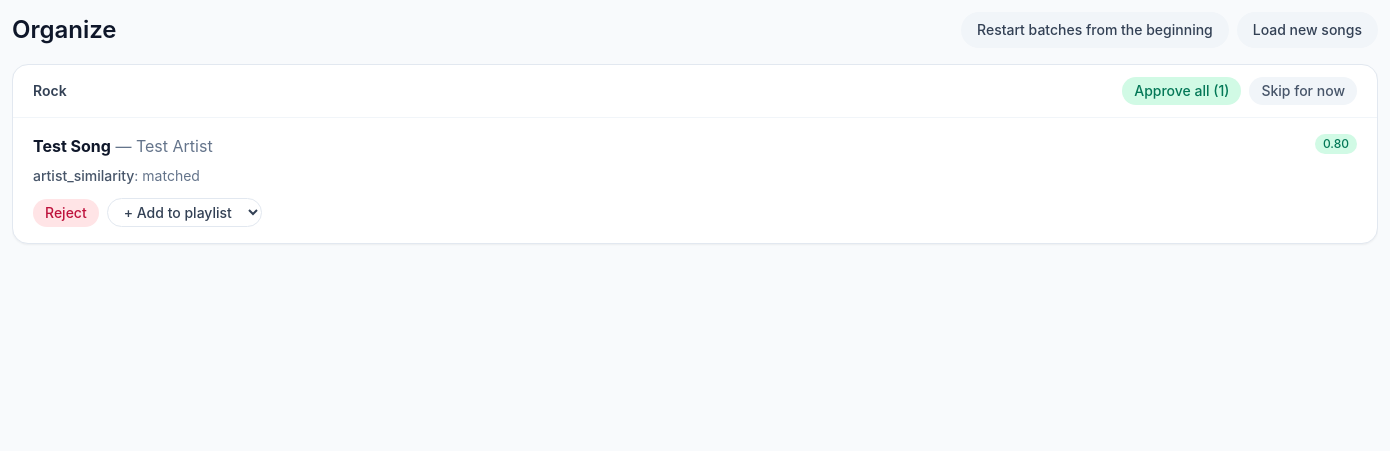
it: ReviewQueue › adds an independent pending candidate for an already-assigned song without touching the original
Expected: the list item with test id "queue-item-1" is shown, x1=13 y1=118 x2=1377 y2=243
Select "Chill" in the dropdown named "Add \"Test Song\" to a playlist" at (184, 212), box x1=107 y1=198 x2=262 y2=227
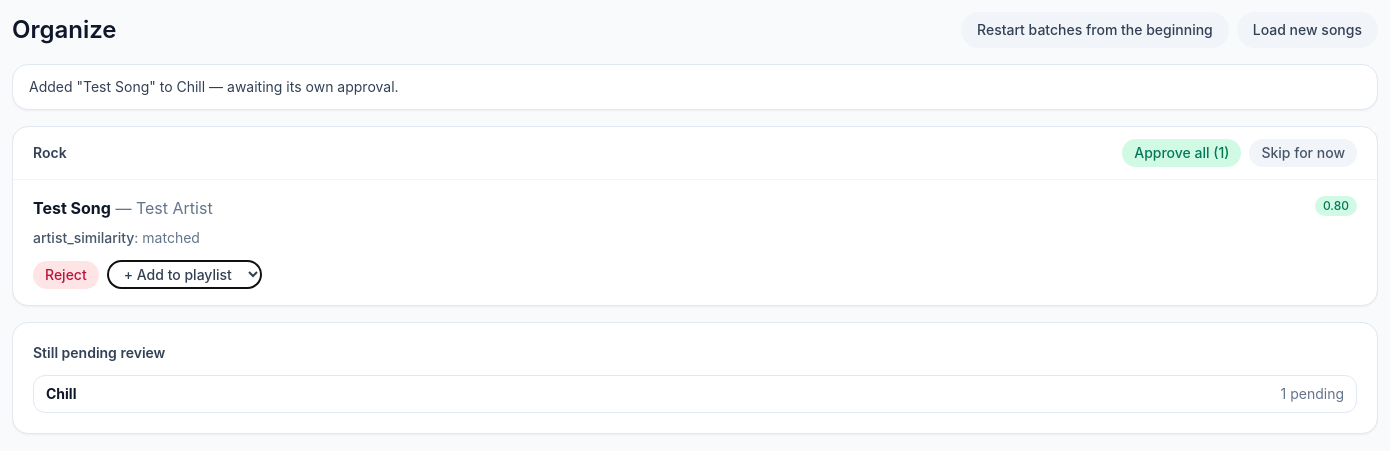
Expected: the list item with test id "queue-item-1" is shown, x1=13 y1=180 x2=1377 y2=305
Now the message reads "Added \"Test Song\" to Chill — awaiting its own approval.", box x1=29 y1=78 x2=399 y2=95
Now the element with test id "organize-revisit-list" shows "Chill", box x1=33 y1=375 x2=1357 y2=413
